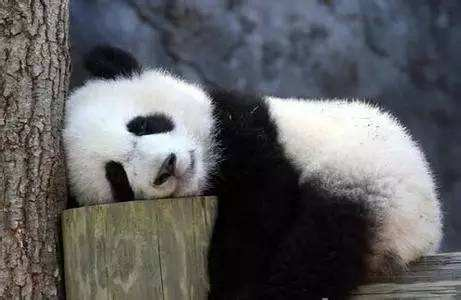panda: (64, 41, 448, 300)
